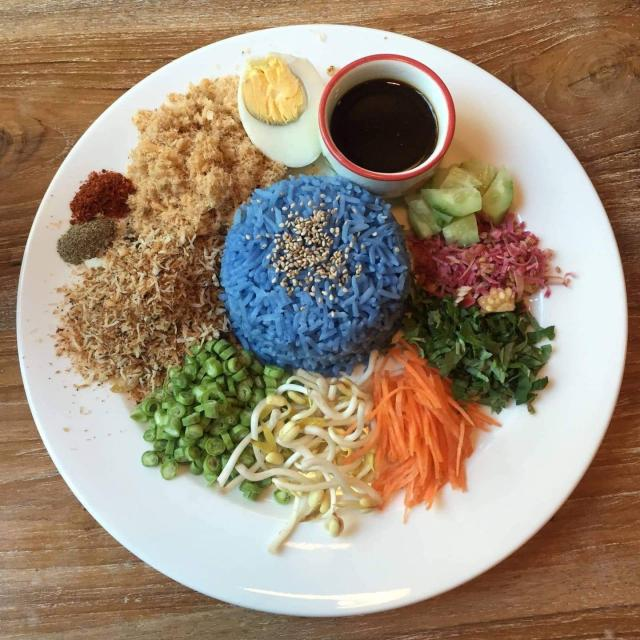carb: (235, 182, 410, 353)
rice salad: (92, 105, 539, 524)
vegetable: (438, 282, 558, 426), (188, 323, 263, 504)
